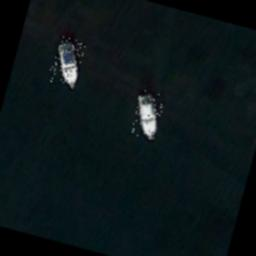boat: (46, 35, 86, 89), (128, 88, 166, 140)
